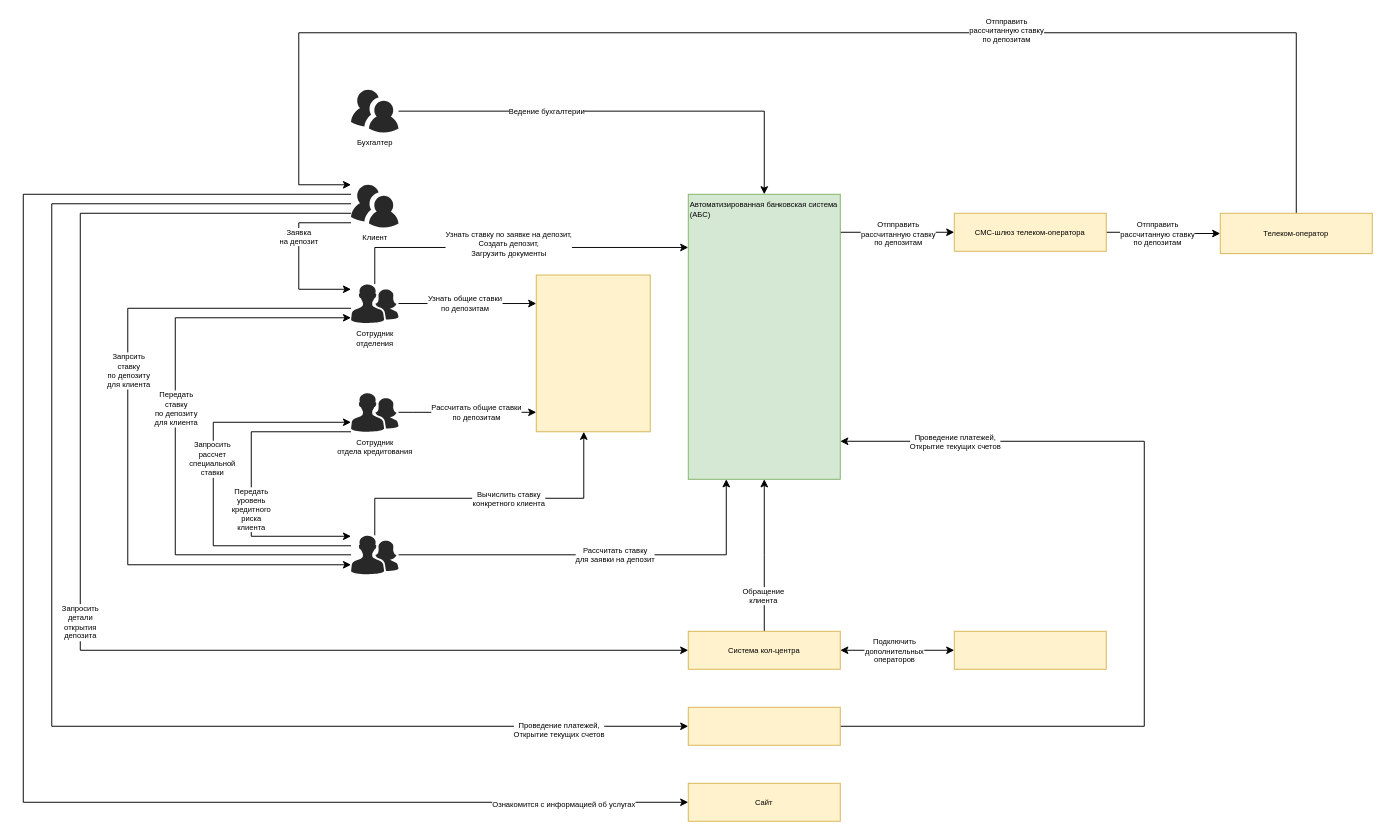
Image size: 1389x838. Some labels were removed from this diagram. The centre of each missing label's shape, as x and y in pixels:
Excel-файл расчета ставки по депозиту: [592,353]
Интернет-банк: [763,725]
Система партнёрского кол-центра: [1029,649]
Сотрудник отдела депозитных продуктов: [374,554]
